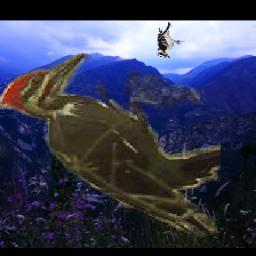Woodpecker: (0, 54, 219, 238), (158, 22, 185, 59)
